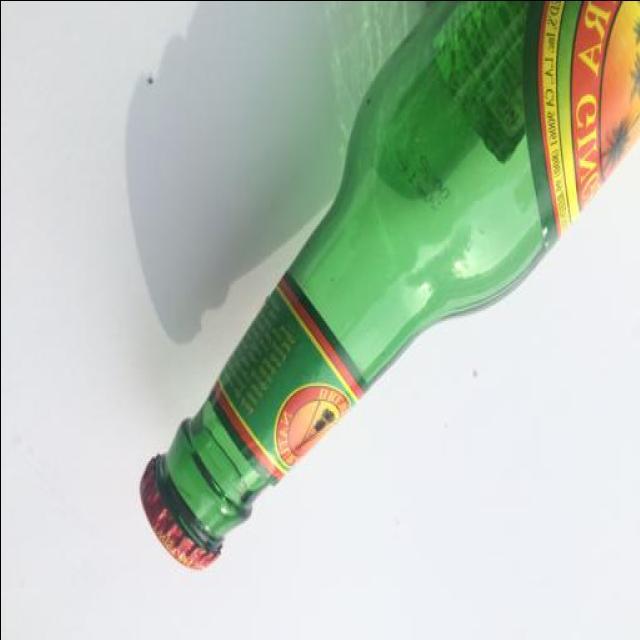glass: (136, 0, 640, 572)
